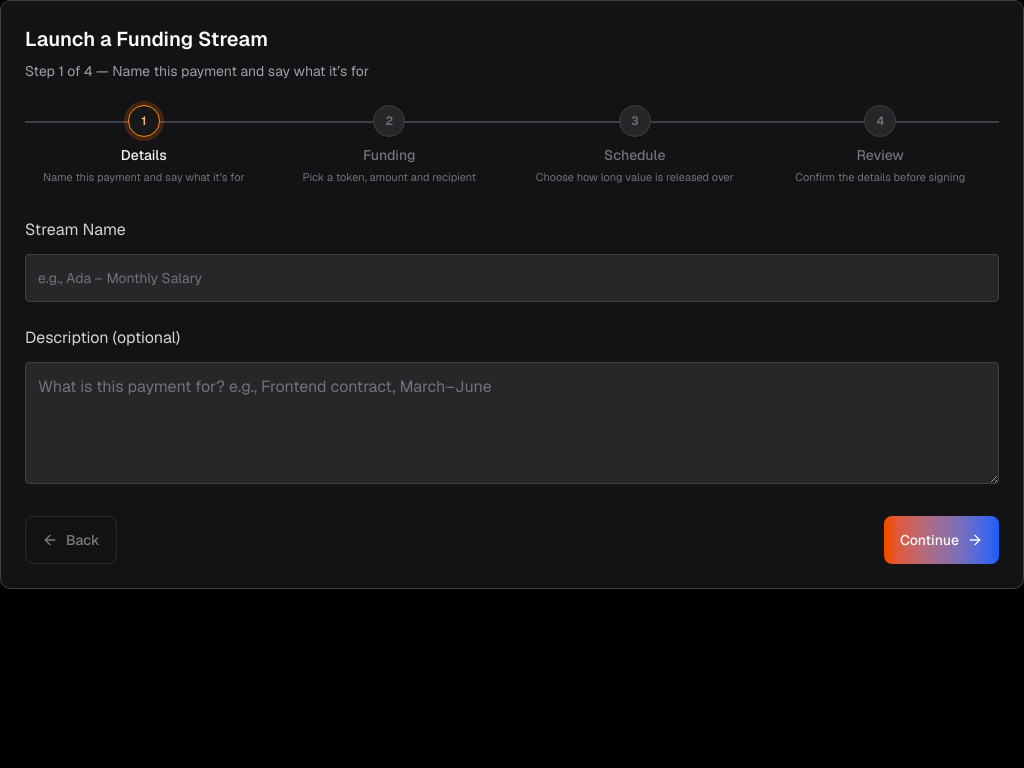
StreamWizard › advances to the funding step once the stream details are valid
Type "Q3 Contributor Grants" into the field labelled "Stream Name" at (512, 278), box [25,254,999,302]
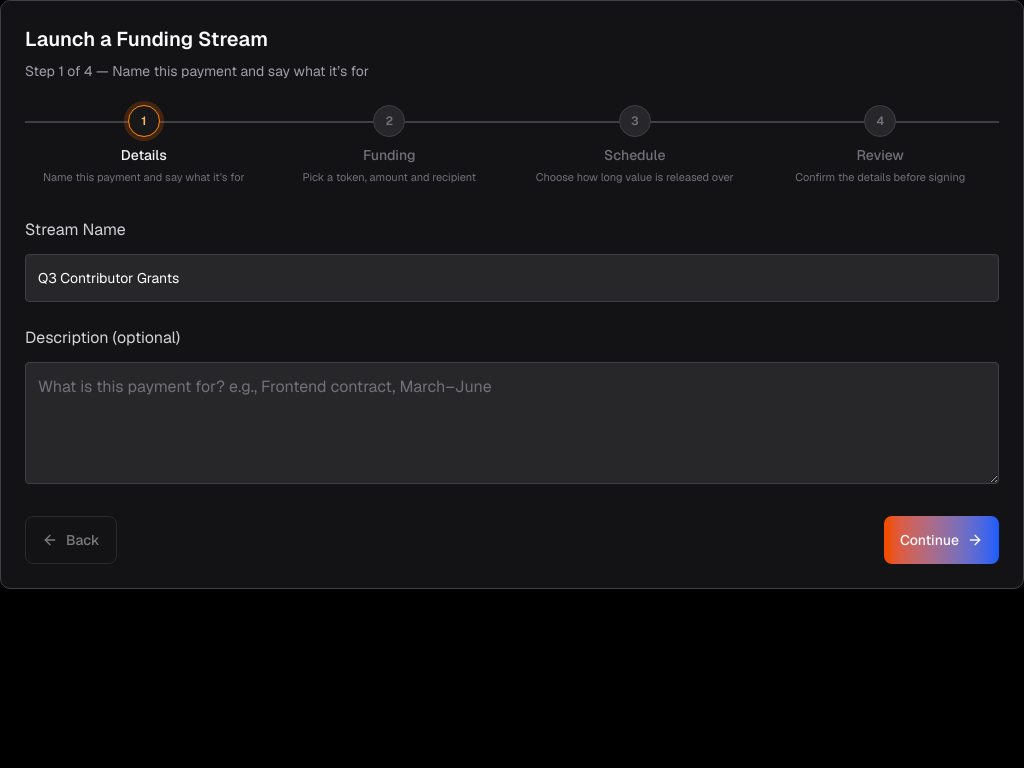
Click the button "Continue" at (941, 540), box [884,516,999,564]
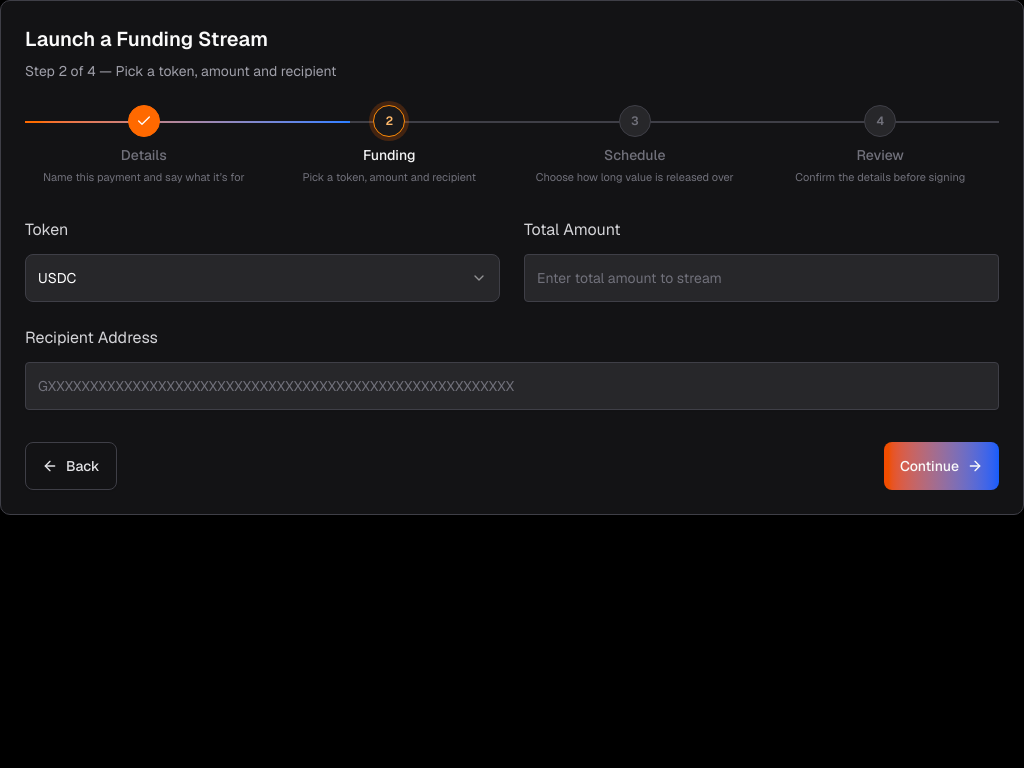
Expected: the text "Step 2 of 4 — Pick a token, amount and recipient" is shown, [25,62,336,80]
Expected: the field labelled "Recipient Address" is shown, [25,362,999,410]
